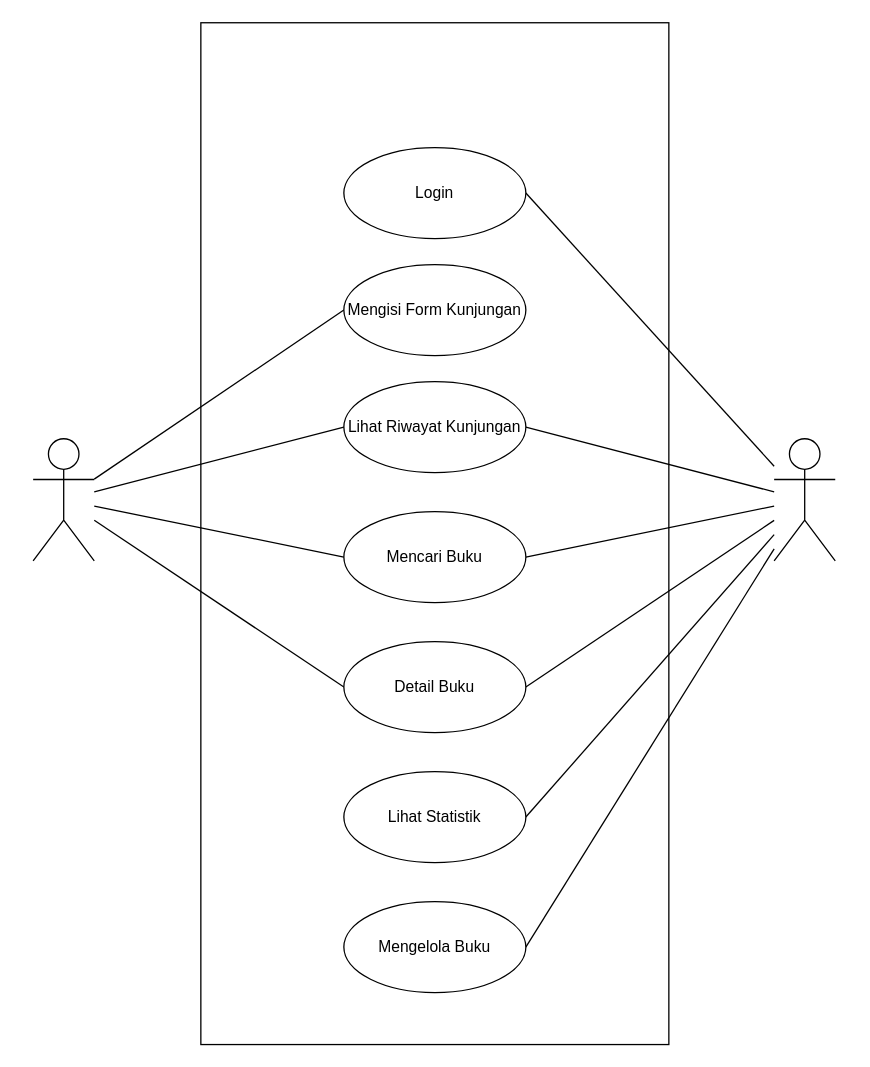
This 870x1067 diagram has some shape labels left out. Each missing label, with the box of its shape:
Pengunjung: (32, 437, 94, 561)
Perpustakaan Digital: (200, 21, 669, 1045)
Pustakawan: (773, 437, 835, 561)
